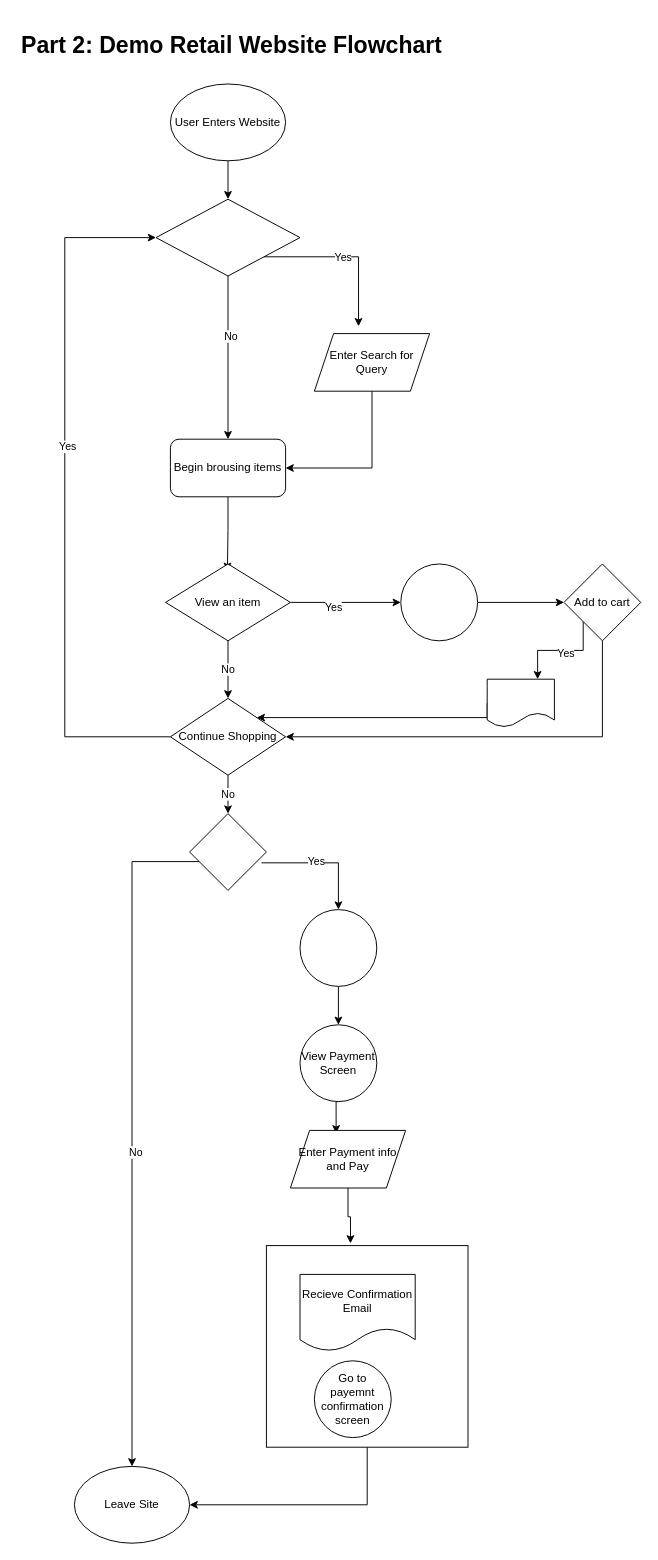
Image size: 658x1560. Some labels were removed from this diagram. The box of each missing label's shape, as (x1, y1, x2, y2) in pixels:
Checkout: (189, 813, 266, 890)
Item added: (486, 678, 554, 727)
Product webpage appears: (400, 563, 478, 641)
Search for item: (155, 198, 300, 276)
View Cart Screen: (299, 909, 377, 986)
